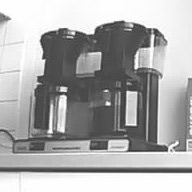empty coffee: (26, 81, 84, 137)
not empty coffee: (88, 79, 144, 135)
